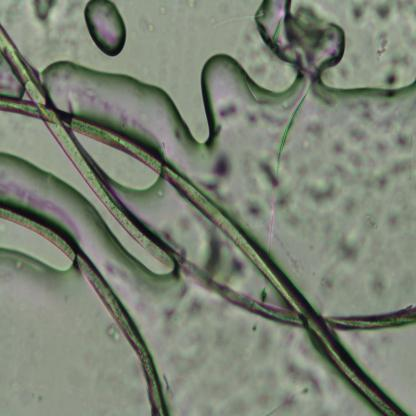Air bubble: (153, 46, 284, 148), (42, 53, 181, 138), (255, 1, 349, 99), (0, 235, 72, 275), (107, 160, 163, 204), (84, 0, 126, 58), (0, 67, 25, 99)
Background material: (277, 328, 332, 404), (199, 228, 245, 289), (163, 283, 203, 331), (298, 174, 346, 210), (244, 35, 278, 85), (163, 351, 197, 392), (333, 230, 366, 270), (357, 98, 394, 131), (332, 49, 367, 81), (245, 106, 286, 133), (99, 257, 130, 291), (327, 140, 362, 169), (236, 192, 267, 224), (275, 178, 296, 217), (48, 22, 77, 49), (255, 326, 274, 366), (199, 174, 229, 199), (211, 144, 233, 178), (368, 268, 390, 302), (215, 395, 250, 416), (352, 335, 380, 360), (389, 151, 416, 176), (255, 158, 278, 187), (371, 0, 395, 27), (5, 0, 28, 27), (214, 101, 241, 124), (31, 0, 55, 25), (349, 0, 372, 26), (374, 27, 389, 58), (394, 132, 416, 152), (350, 121, 366, 148), (361, 209, 381, 230), (319, 268, 335, 294), (176, 208, 192, 234), (103, 323, 122, 344), (341, 197, 360, 216), (374, 172, 388, 197), (402, 25, 416, 49), (395, 0, 416, 16), (374, 142, 392, 160), (308, 122, 327, 139), (389, 52, 412, 66), (382, 69, 398, 88), (247, 319, 262, 336), (136, 300, 150, 318), (388, 214, 401, 233), (259, 280, 269, 304), (66, 0, 79, 18), (397, 191, 407, 206), (301, 140, 312, 152), (147, 21, 155, 35), (160, 4, 168, 16), (186, 0, 196, 9)
Glass filter fibre: (270, 78, 315, 245), (210, 12, 255, 29), (262, 400, 285, 415)
Microfibre: (0, 96, 406, 416), (0, 26, 416, 333), (0, 204, 165, 416)
